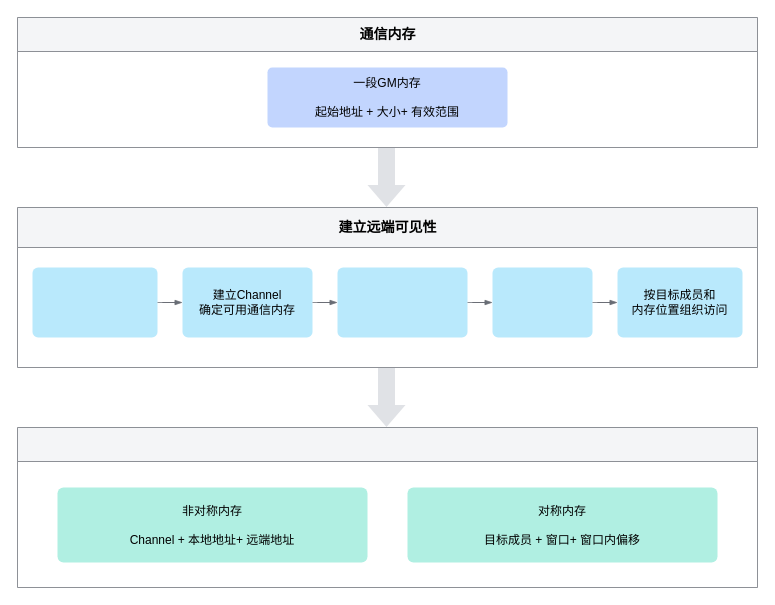
The diagram is 775 pixels wide and 605 high, and some of its shapes have lost their labels. The shapes that lost their labels are listed below. From the top down, each one's box as (x1, y1, x2, y2) in pixels, then its label:
(32, 267, 157, 337): 完成内存注册 建立访问凭据
(337, 267, 467, 337): 交换内存描述 和访问凭据
(492, 267, 592, 337): 建立 远端可见性
(17, 427, 757, 587): 通信内存的组织
